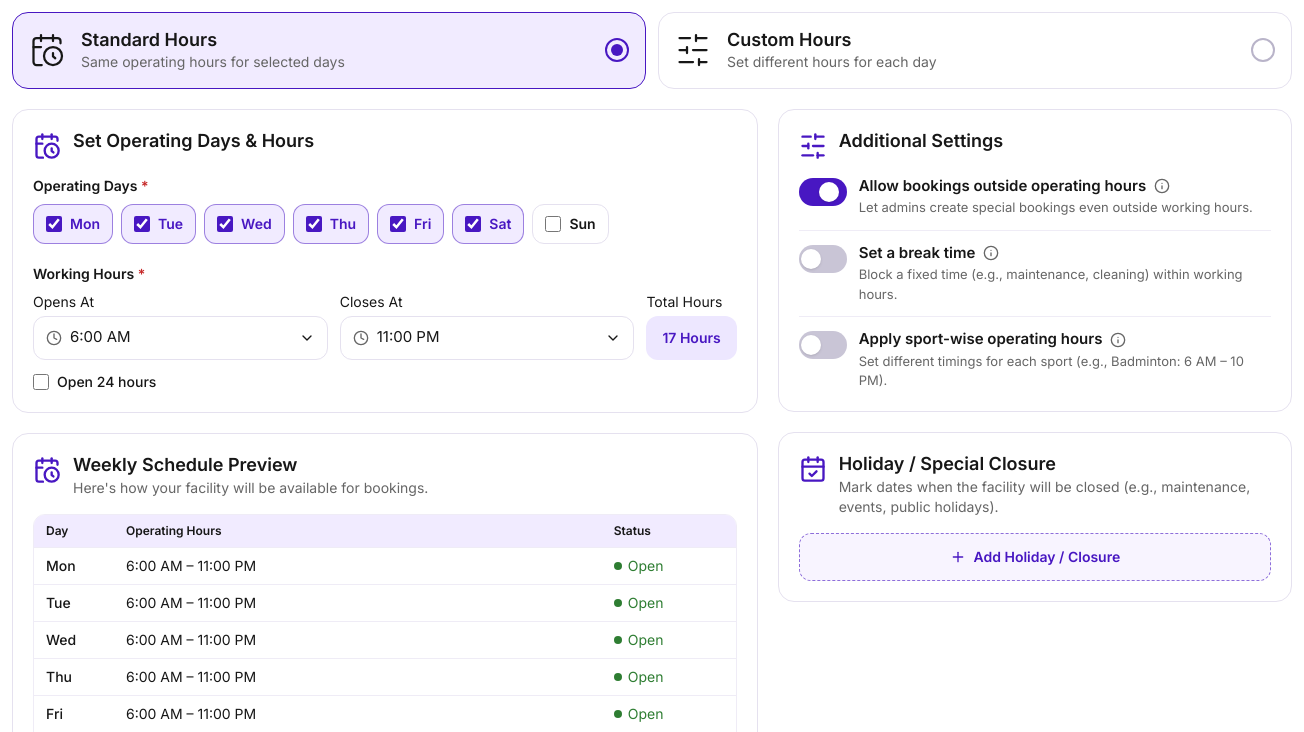
Scenario: OperatingHoursSetupForm › Custom Hours: each day has its own times and status, with a weekly total
Click the radio button labelled "Custom Hours Set different hours for each day". click: (693, 50)
box: top-left (658, 12), bottom-right (1292, 88)
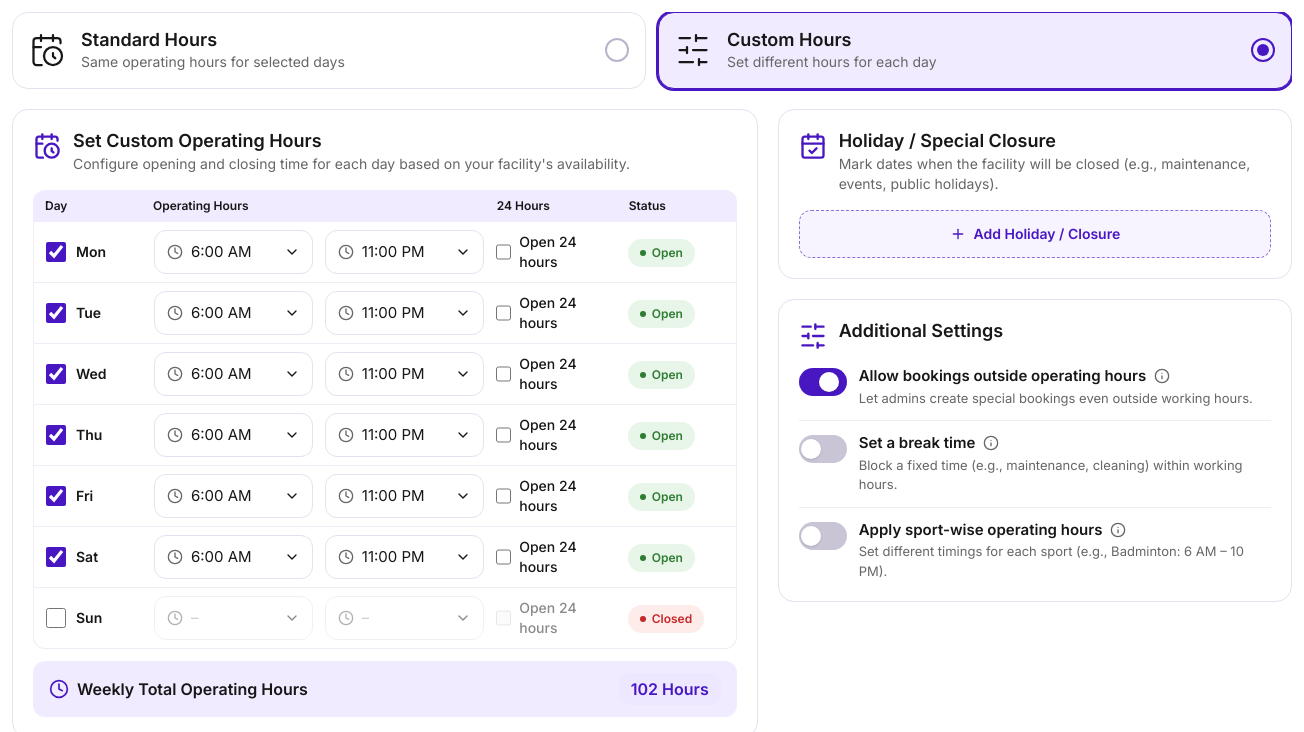
Result: the heading "Set Custom Operating Hours" is shown at top-left (73, 130), bottom-right (322, 150)
Result: the text with test id "weekly-total" reads "102 Hours" at top-left (631, 679), bottom-right (709, 699)
Click the dropdown named "Wednesday closes at". click: (404, 374)
box: top-left (325, 352), bottom-right (484, 396)
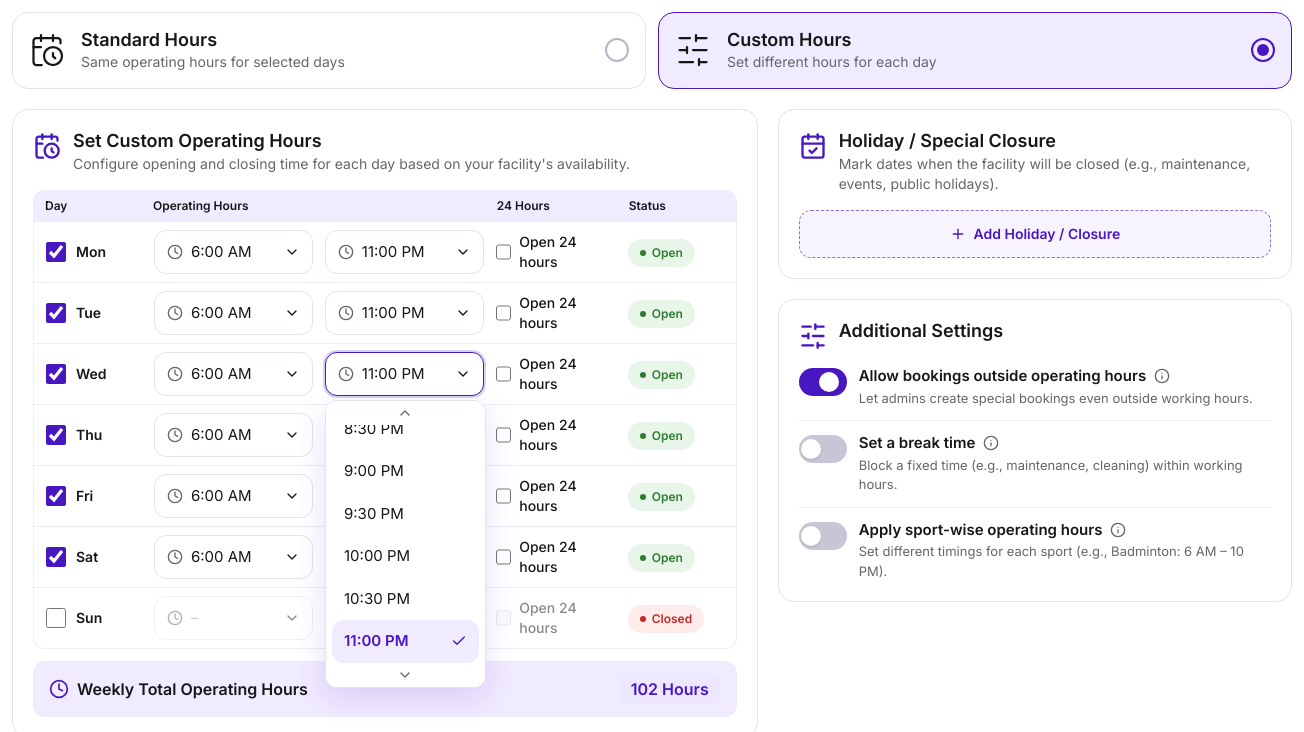
Click the option "10:00 PM". click: (377, 556)
box: top-left (344, 546), bottom-right (410, 565)
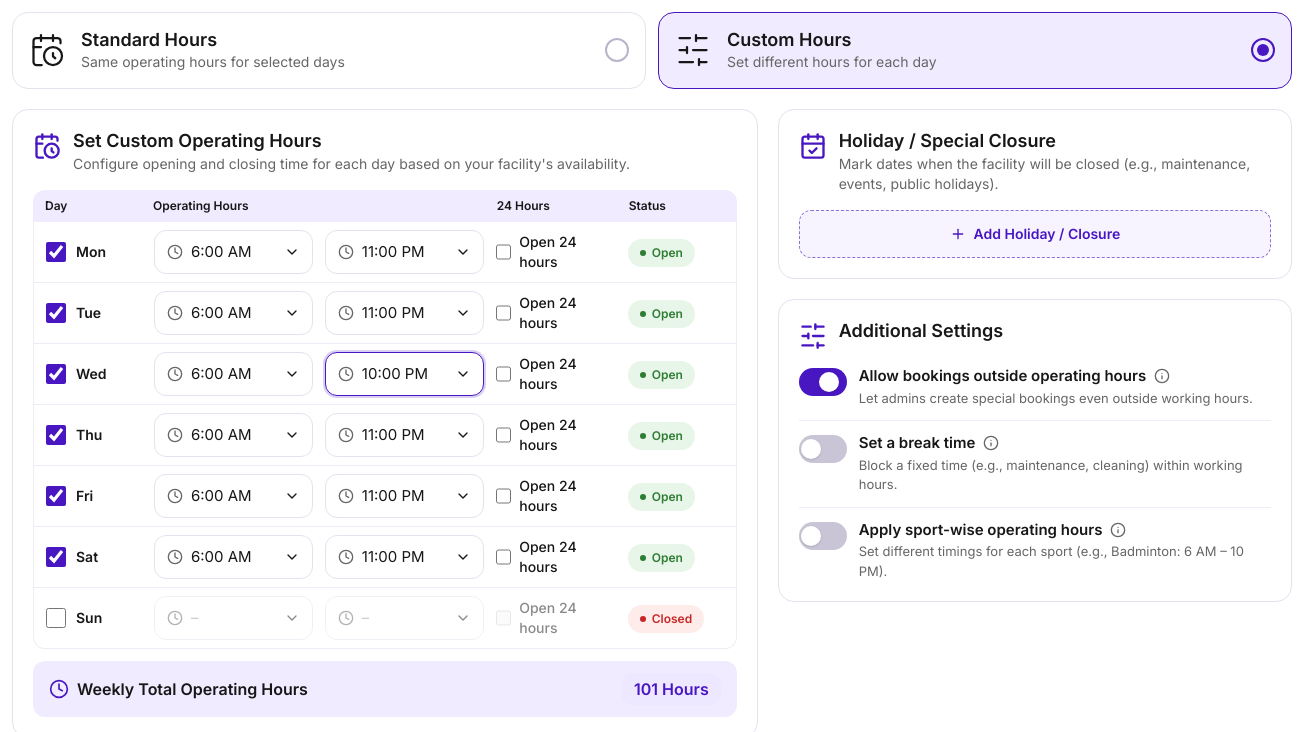
Result: the text with test id "weekly-total" reads "101 Hours" at top-left (634, 679), bottom-right (709, 699)
Click the checkbox named "Friday". click: (56, 496)
box: top-left (46, 486), bottom-right (66, 506)
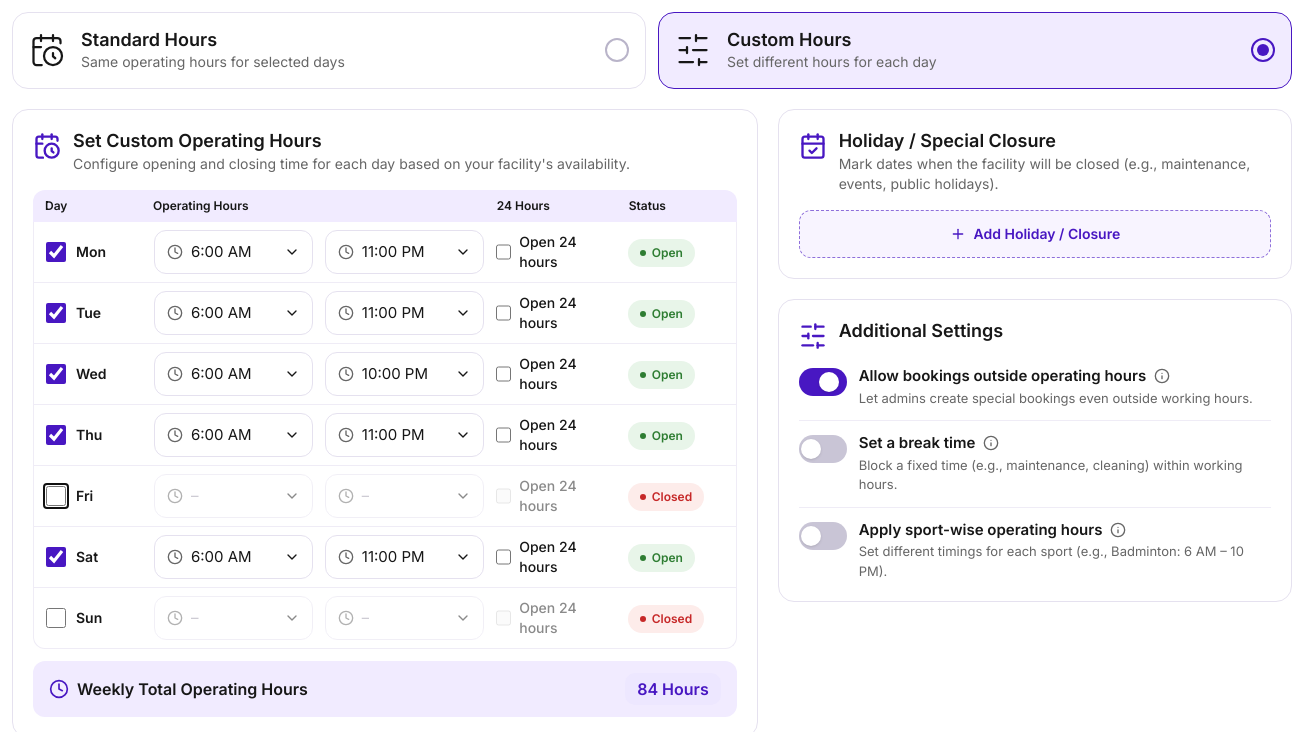
Result: the text with test id "weekly-total" reads "84 Hours" at top-left (637, 679), bottom-right (709, 699)
